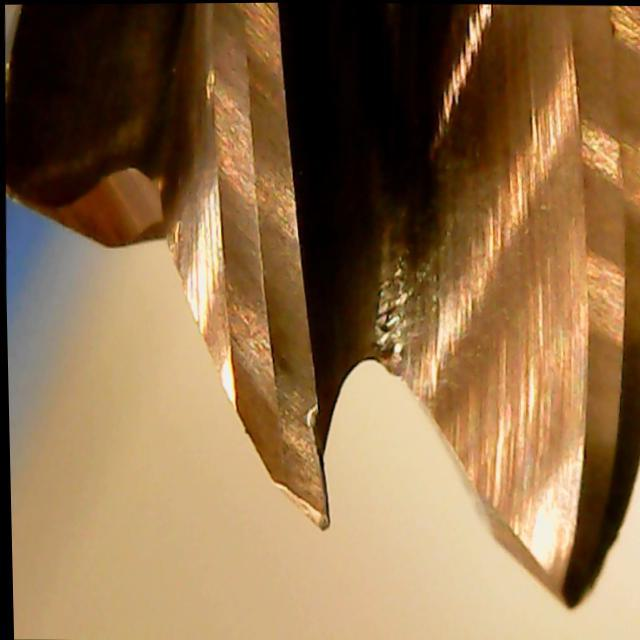Tool-wear-class-1: (226, 260, 352, 536)
